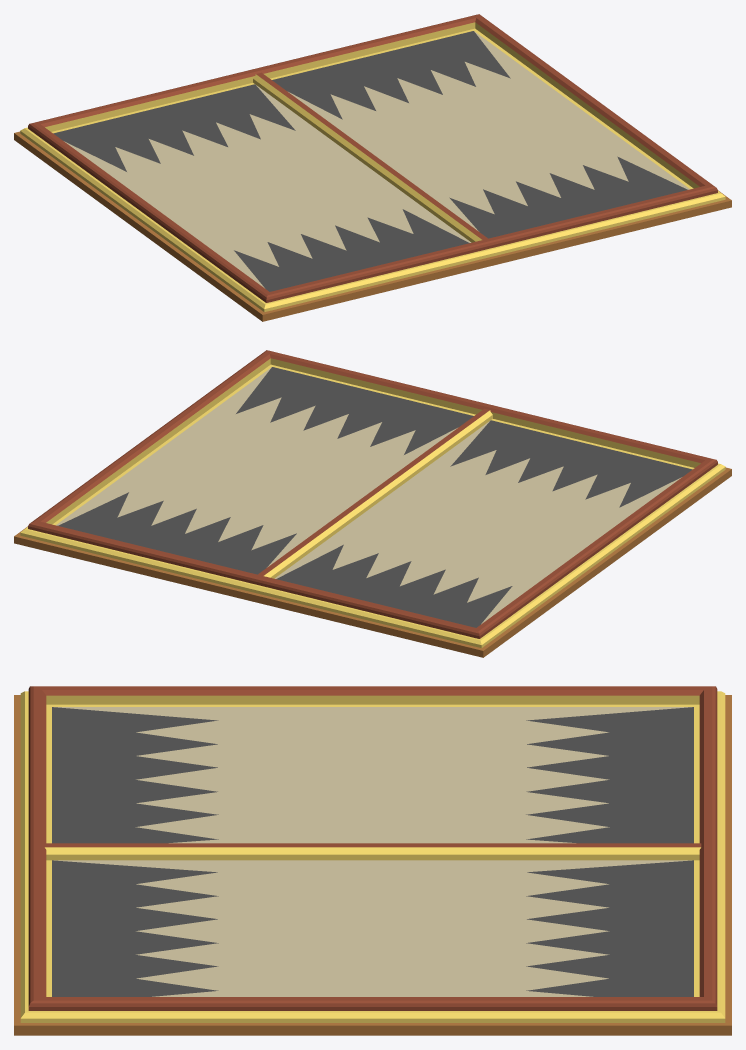
File: backgammon board.fbx
3 views of the same model, one above another, from view 1: azimuth 30°, elevation 25°; view 2: azimuth 150°, elevation 25°; view 3: azimuth 270°, elevation 25° (orthographic). The views are drawn at different scales.
Visible parts, largest first — view 1: Cube_1; view 2: Cube_1; view 3: Cube_1.
Boxes of the visible parts, box(x1,y1,x2,y2) form: Cube_1: box(14, 14, 731, 321); Cube_1: box(14, 350, 731, 657); Cube_1: box(14, 686, 731, 1035).
Bounding box in the file's own units: 1918 × 73.04 × 1760.
